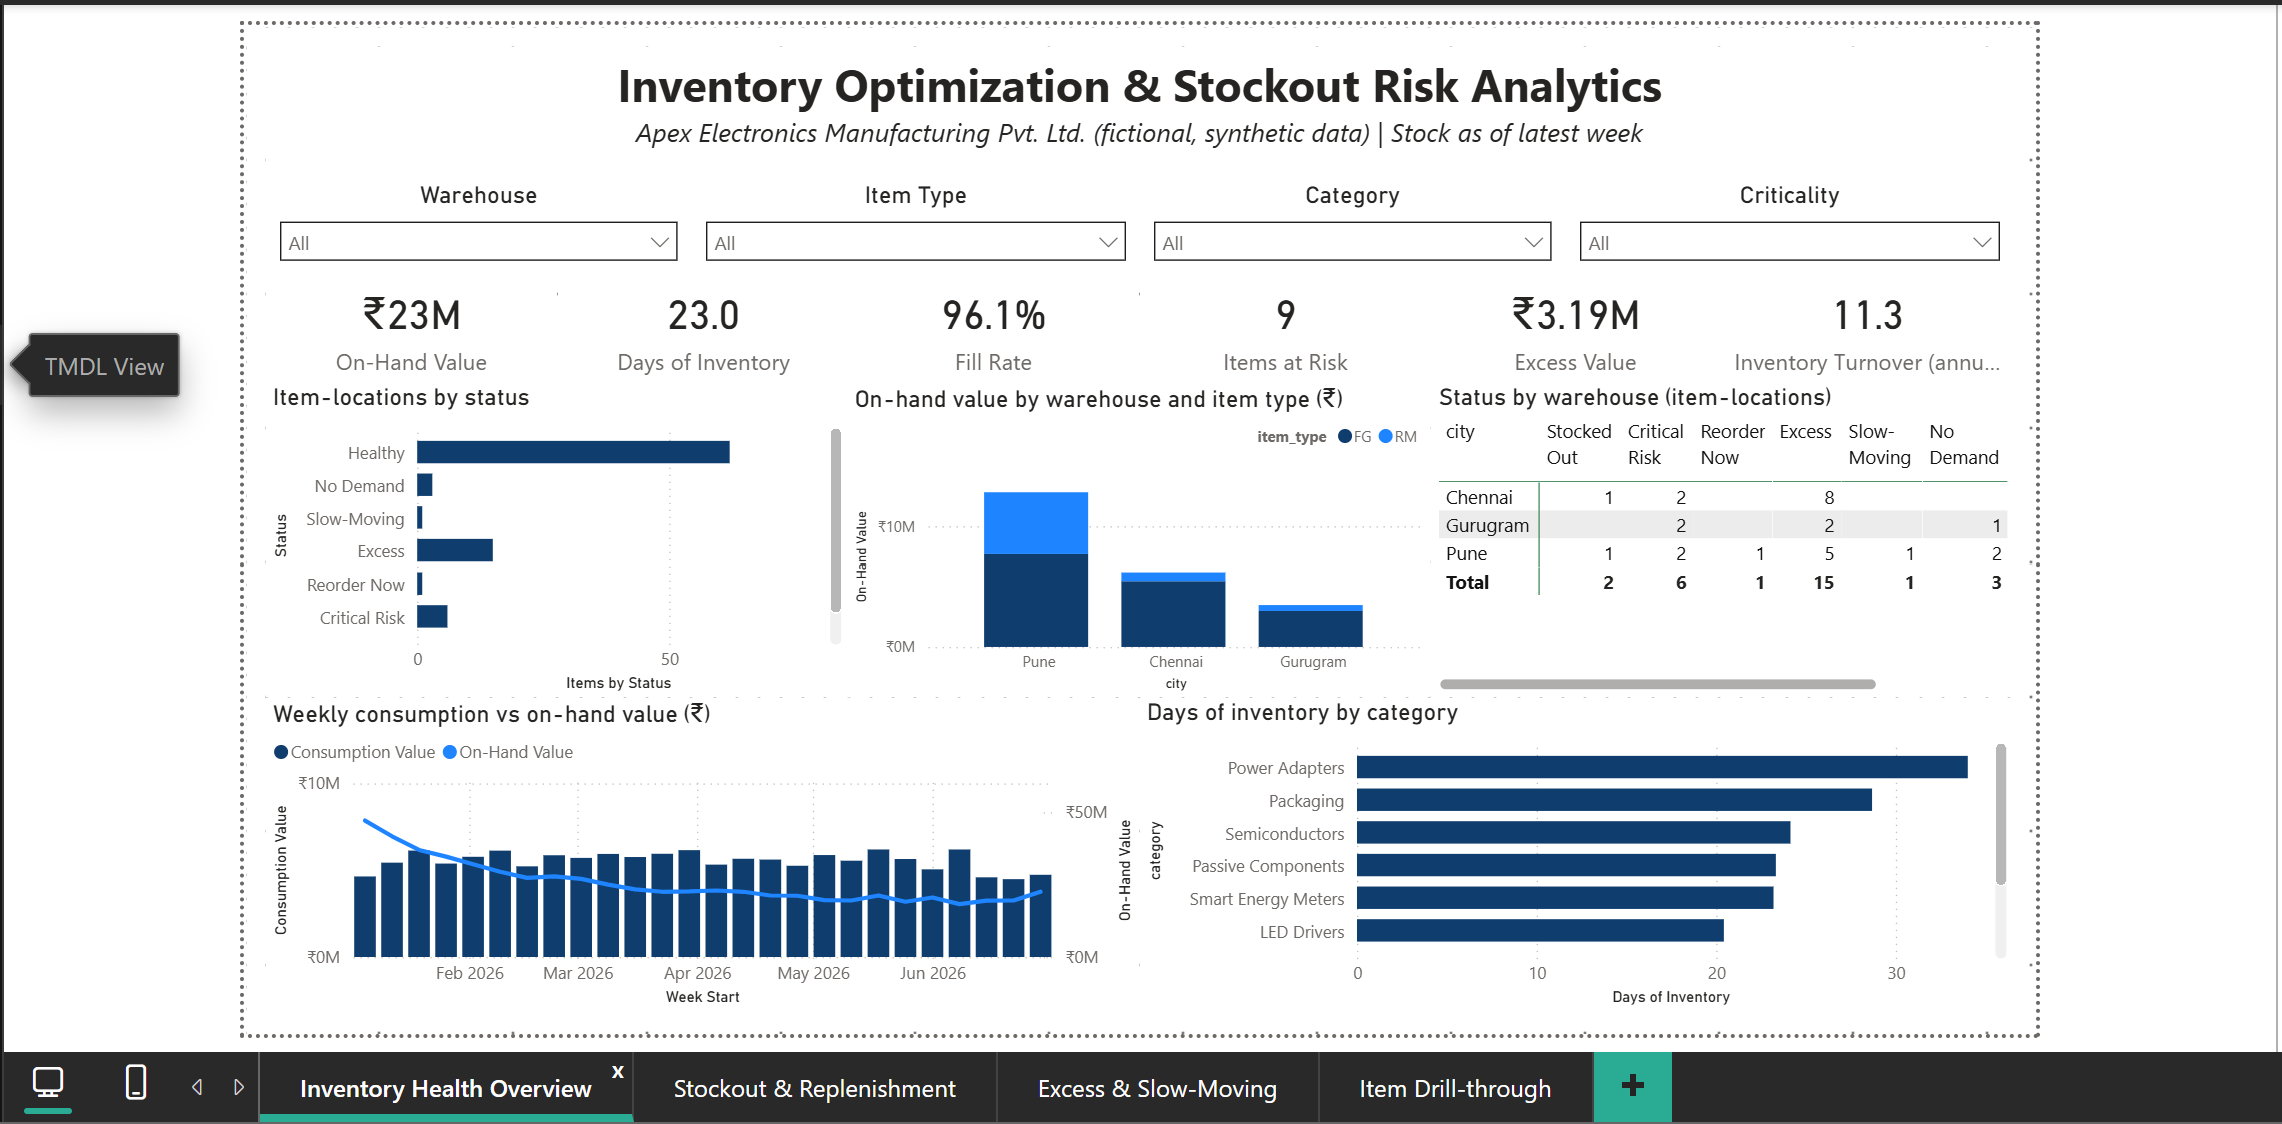

Layout of this report page (visuals, bound fields, positions):
{"tool":"powerbi","page":{"name":"Inventory Health Overview","canvas":[1280,720],"ordinal":0},"visuals":[{"type":"textbox","box":[16,16,1248,96],"z":0,"group":"g2"},{"type":"card","fields":{"Values":["_Measures.Days of Inventory"]},"box":[224,176,208,80],"z":0,"group":"g1"},{"type":"clusteredBarChart","title":"Days of inventory by category","fields":{"Category":["dim_item.category"],"Y":["_Measures.Days of Inventory"]},"box":[640,480,624,224],"z":0},{"type":"slicer","title":"Item Type","fields":{"Values":["dim_item.item_type"]},"box":[320,112,320,65],"z":1000,"group":"g2"},{"type":"card","fields":{"Values":["_Measures.On-Hand Value"]},"box":[16,176,208,80],"z":1000,"group":"g1"},{"type":"lineClusteredColumnComboChart","title":"Weekly consumption vs on-hand value (₹)","fields":{"Category":["dim_date.Week Start"],"Y":["_Measures.Consumption Value"],"Y2":["_Measures.On-Hand Value"]},"box":[16,480,624,224],"z":1000},{"type":"slicer","title":"Category","fields":{"Values":["dim_item.category"]},"box":[640,112,304,65],"z":2000,"group":"g2"},{"type":"card","fields":{"Values":["_Measures.Fill Rate"]},"box":[432,176,208,80],"z":2000,"group":"g1"},{"type":"clusteredBarChart","title":"Item-locations by status","fields":{"Category":["dim_status.Status"],"Y":["_Measures.Items by Status"]},"box":[16,256,416,224],"z":2000},{"type":"slicer","title":"Warehouse","fields":{"Values":["dim_warehouse.city"]},"box":[16,112,304,65],"z":3000,"group":"g2"},{"type":"card","title":"Inventory Turnover (annualized)","fields":{"Values":["_Measures.Inventory Turnover (annualized)"]},"box":[1056,176,208,80],"z":3000,"group":"g1"},{"type":"pivotTable","title":"Status by warehouse (item-locations)","fields":{"Columns":["dim_status.Status"],"Values":["_Measures.Items by Status"],"Rows":["dim_warehouse.city"]},"box":[848,256,416,224],"z":3000},{"type":"slicer","title":"Criticality","fields":{"Values":["dim_item.criticality"]},"box":[944,112,320,65],"z":4000,"group":"g2"},{"type":"card","fields":{"Values":["_Measures.Excess Value"]},"box":[848,176,208,80],"z":4000,"group":"g1"},{"type":"columnChart","title":"On-hand value by warehouse and item type (₹)","fields":{"Series":["dim_item.item_type"],"Y":["_Measures.On-Hand Value"],"Category":["dim_warehouse.city"]},"box":[432,256,416,224],"z":4000},{"type":"group","id":"g1","title":"Group 1","box":[16,176,1248,80],"z":5000},{"type":"card","fields":{"Values":["_Measures.Items at Risk"]},"box":[640,176,208,80],"z":5000,"group":"g1"},{"type":"group","id":"g2","title":"Group 2","box":[16,16,1248,161],"z":6000}]}

Visuals, with their boxes on the page's 1280x720 design canvas (x1, y1, x2, y2). These are canvas units, not pixel positions in the 2282x1124 screenshot, which may show the page scaled, cropped or inside an application window:
textbox: [x1=16, y1=16, x2=1264, y2=112]
card - _Measures.Days of Inventory: [x1=224, y1=176, x2=432, y2=256]
"Days of inventory by category" clusteredBarChart: [x1=640, y1=480, x2=1264, y2=704]
"Item Type" slicer: [x1=320, y1=112, x2=640, y2=177]
card - _Measures.On-Hand Value: [x1=16, y1=176, x2=224, y2=256]
"Weekly consumption vs on-hand value (₹)" lineClusteredColumnComboChart: [x1=16, y1=480, x2=640, y2=704]
"Category" slicer: [x1=640, y1=112, x2=944, y2=177]
card - _Measures.Fill Rate: [x1=432, y1=176, x2=640, y2=256]
"Item-locations by status" clusteredBarChart: [x1=16, y1=256, x2=432, y2=480]
"Warehouse" slicer: [x1=16, y1=112, x2=320, y2=177]
"Inventory Turnover (annualized)" card: [x1=1056, y1=176, x2=1264, y2=256]
"Status by warehouse (item-locations)" pivotTable: [x1=848, y1=256, x2=1264, y2=480]
"Criticality" slicer: [x1=944, y1=112, x2=1264, y2=177]
card - _Measures.Excess Value: [x1=848, y1=176, x2=1056, y2=256]
"On-hand value by warehouse and item type (₹)" columnChart: [x1=432, y1=256, x2=848, y2=480]
"Group 1" group: [x1=16, y1=176, x2=1264, y2=256]
card - _Measures.Items at Risk: [x1=640, y1=176, x2=848, y2=256]
"Group 2" group: [x1=16, y1=16, x2=1264, y2=177]
